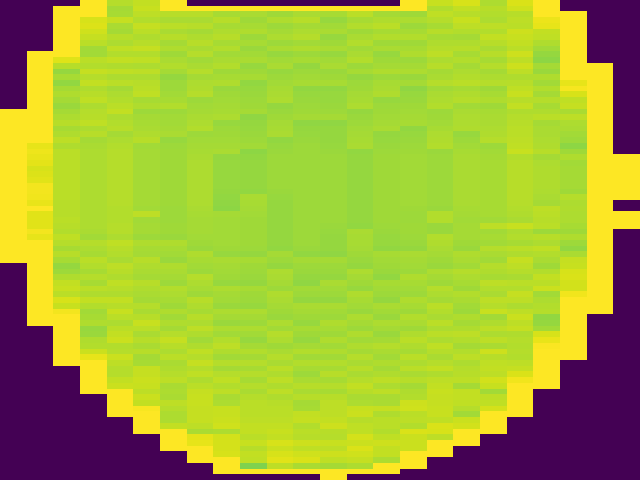sphere: (3, 4, 640, 480)
